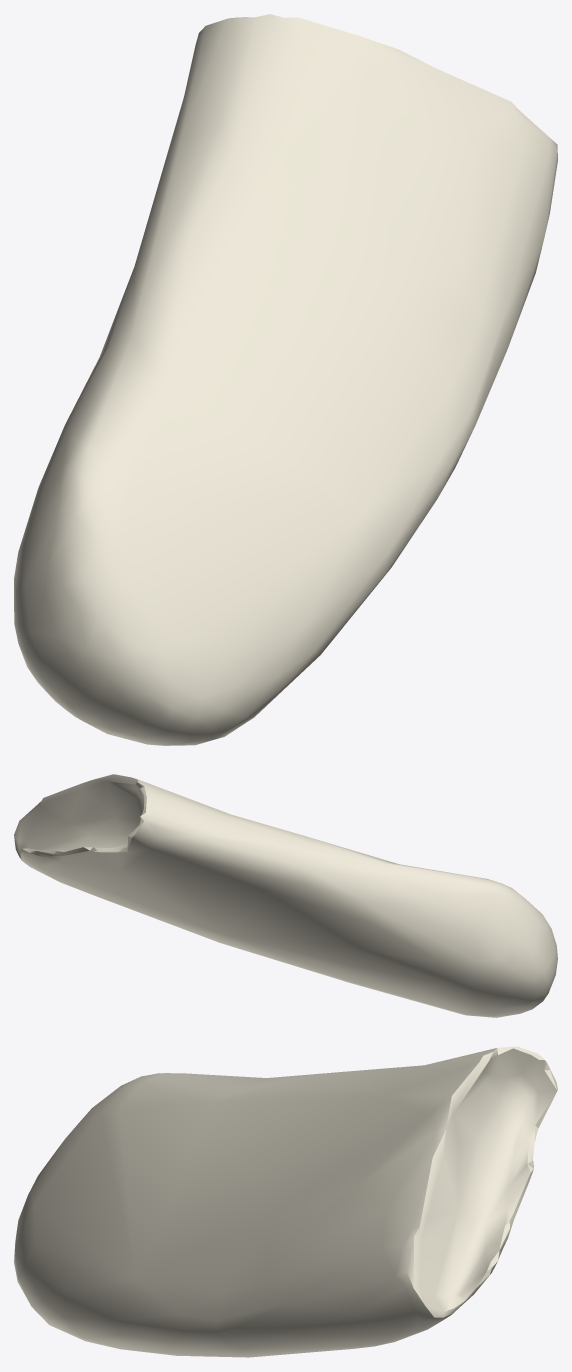
The model's file is fma8005_fj3239.glb.
3 views of the same model, one above another, from view 1: azimuth 30°, elevation 25°; view 2: azimuth 150°, elevation 25°; view 3: azimuth 270°, elevation 25° (orthographic). The views are drawn at different scales.
Parts seen in each view (by area): view 1: FMA8005_FJ3239; view 2: FMA8005_FJ3239; view 3: FMA8005_FJ3239.
Part boxes in pixels (bbox=[...]): FMA8005_FJ3239: bbox=[14, 14, 557, 745]; FMA8005_FJ3239: bbox=[14, 774, 557, 1017]; FMA8005_FJ3239: bbox=[14, 1046, 557, 1357].
Bounding box in the file's own units: 0.0367 × 0.0234 × 0.0285.
